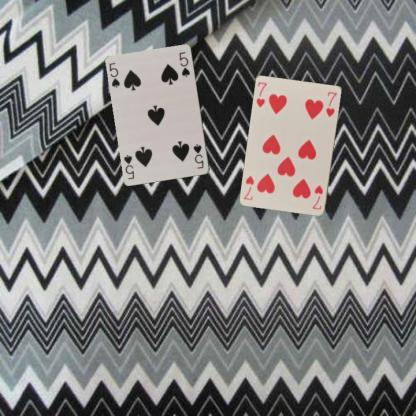5s: (191, 141, 205, 170), (107, 60, 121, 89)
7h: (310, 182, 324, 211), (254, 80, 268, 109)
